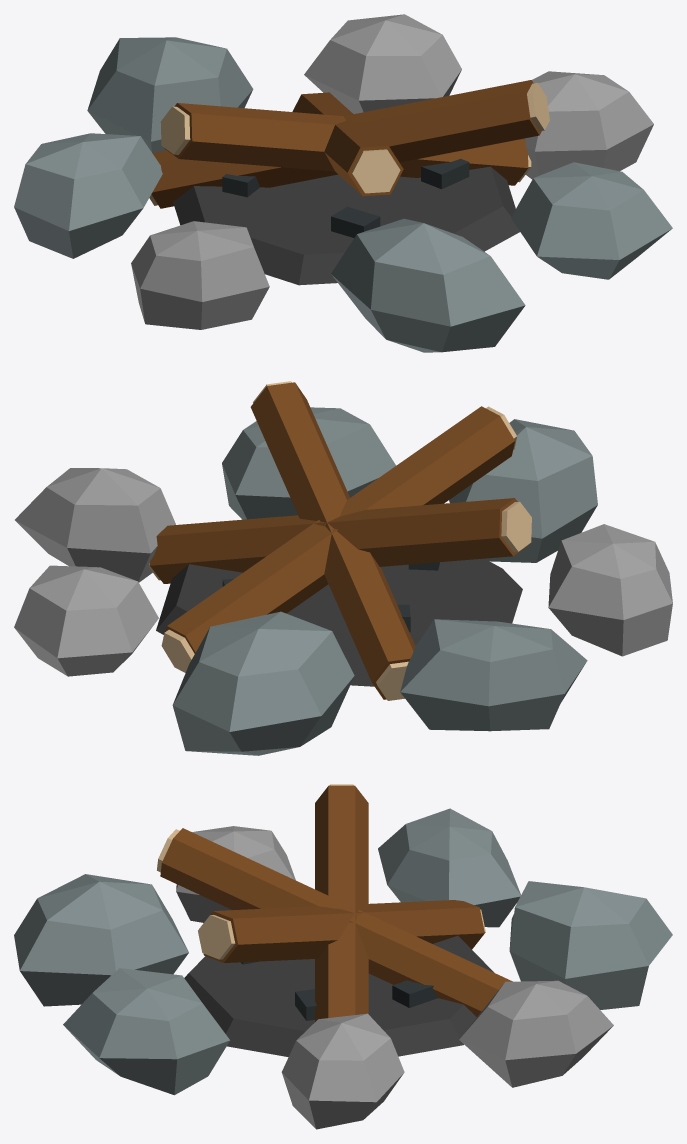
The model's file is campfire.glb.
3 renders of one model, top to bottom at view 1: azimuth 30°, elevation 25°; view 2: azimuth 150°, elevation 25°; view 3: azimuth 270°, elevation 25°, orthographic. The views are drawn at different scales.
Parts seen in each view (by area): view 1: campfire-m; view 2: campfire-m; view 3: campfire-m.
Boxes of the visible parts, x1,y1,x2,y2 form: campfire-m: (14, 14, 672, 352); campfire-m: (14, 381, 672, 755); campfire-m: (14, 784, 672, 1129).
Bounding box in the file's own units: 1.62 × 0.4818 × 1.72.
